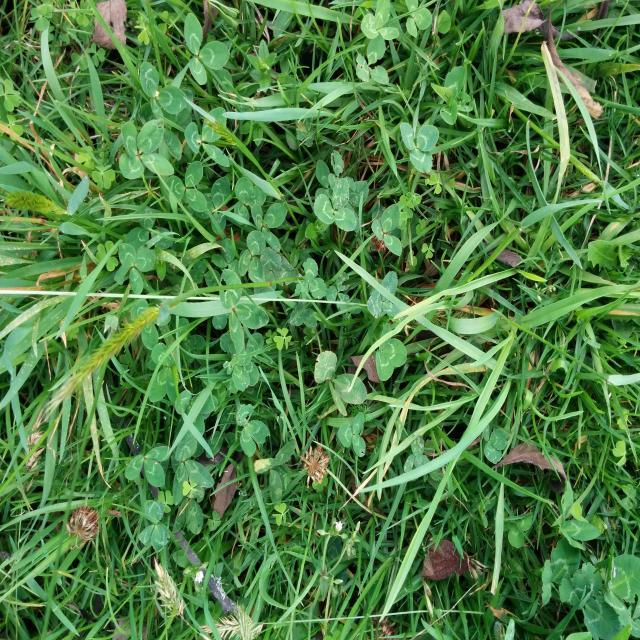Four Leaf Clover: (120, 119, 174, 179)
